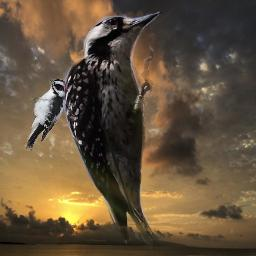Woodpecker: (55, 0, 169, 254), (25, 77, 67, 151)
